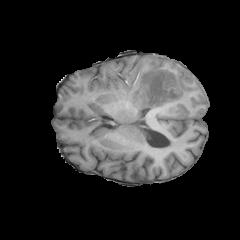glioma: (120, 59, 188, 111)
